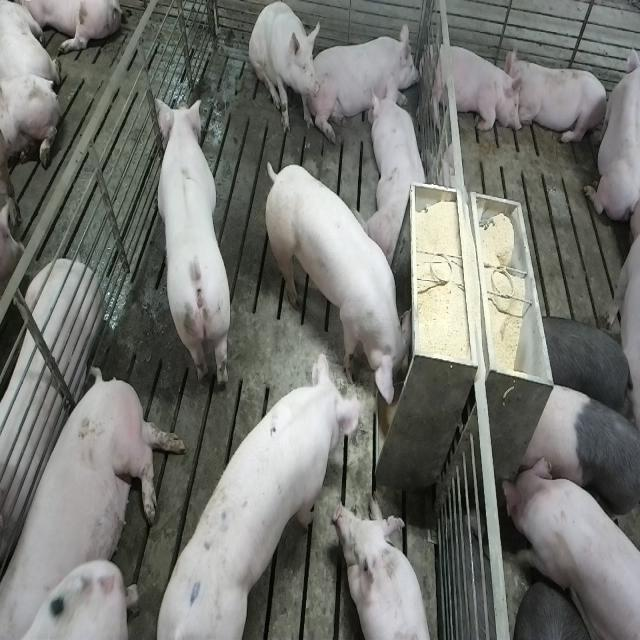Feeding: (270, 161, 418, 411)
Lateral_lying: (4, 362, 188, 637), (0, 258, 103, 574)
Sitting: (249, 2, 319, 137)
Standing: (153, 353, 372, 640), (502, 456, 638, 640), (151, 91, 231, 396), (517, 381, 637, 549), (536, 311, 631, 424)
Sternal_lying: (336, 496, 436, 640), (313, 20, 424, 138), (368, 80, 430, 262), (584, 37, 637, 225), (509, 52, 610, 149), (425, 38, 522, 138)
